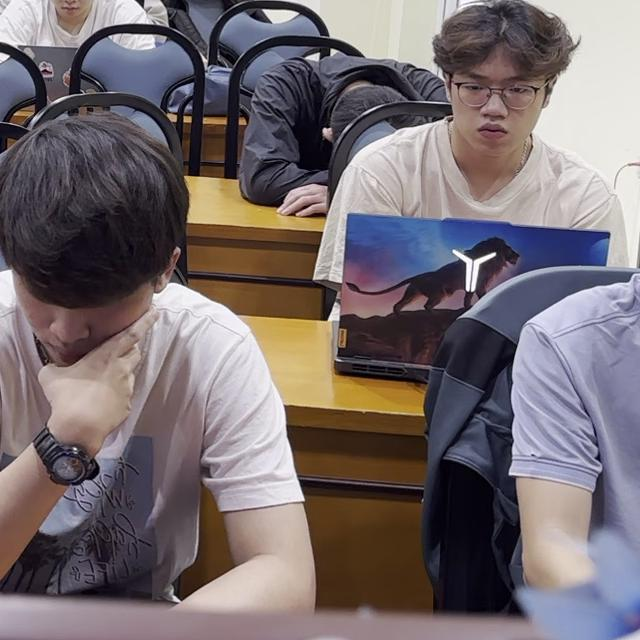Looking away: (4, 250, 181, 372), (449, 69, 548, 152)
